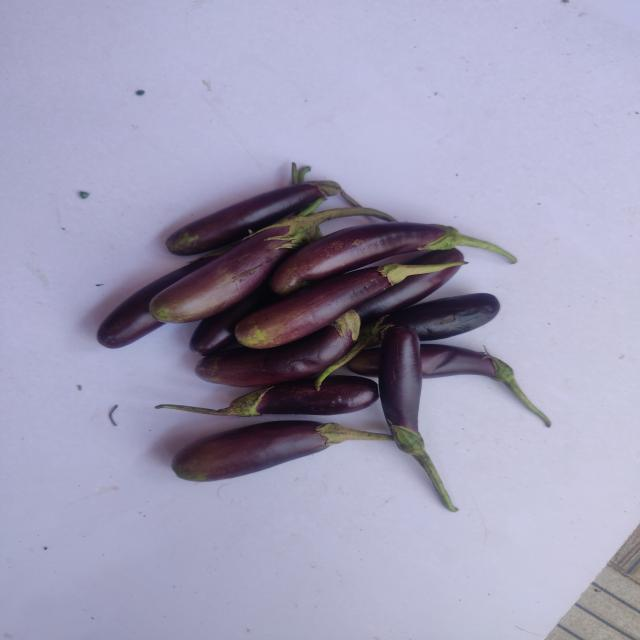Brinjal: (149, 207, 374, 323), (234, 264, 442, 349), (171, 421, 393, 482), (165, 180, 341, 255), (194, 310, 360, 387), (156, 376, 378, 417), (379, 327, 425, 456), (428, 468, 455, 512)
